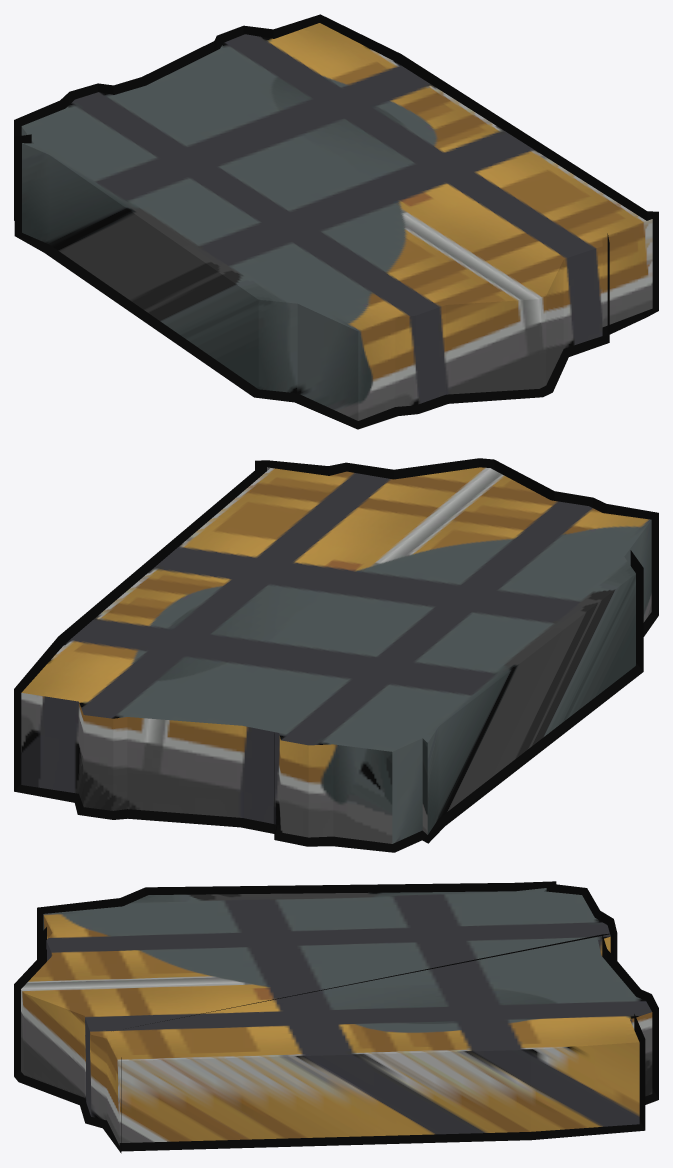
Rendered from Building_Pallet_SurvivalMeals_Things_Building_Ancient_OpenableContainers_AirdropPallet_SurvivalMeals.glb.
The picture shows the model from 3 angles, top to bottom: view 1: azimuth 30°, elevation 25°; view 2: azimuth 150°, elevation 25°; view 3: azimuth 270°, elevation 25°; orthographic projection. The views are drawn at different scales.
Parts seen in each view (by area): view 1: Body, Outline; view 2: Body, Outline; view 3: Body, Outline.
Boxes of the visible parts, bbox=[...] form: Body: bbox=[21, 23, 652, 420]; Outline: bbox=[14, 14, 658, 429]; Body: bbox=[21, 467, 651, 843]; Outline: bbox=[14, 458, 658, 852]; Body: bbox=[21, 888, 652, 1145]; Outline: bbox=[14, 881, 658, 1153].
Bounding box in the file's own units: 1.88 × 0.47 × 2.82.
Materials: 2 (1 with a texture image).
